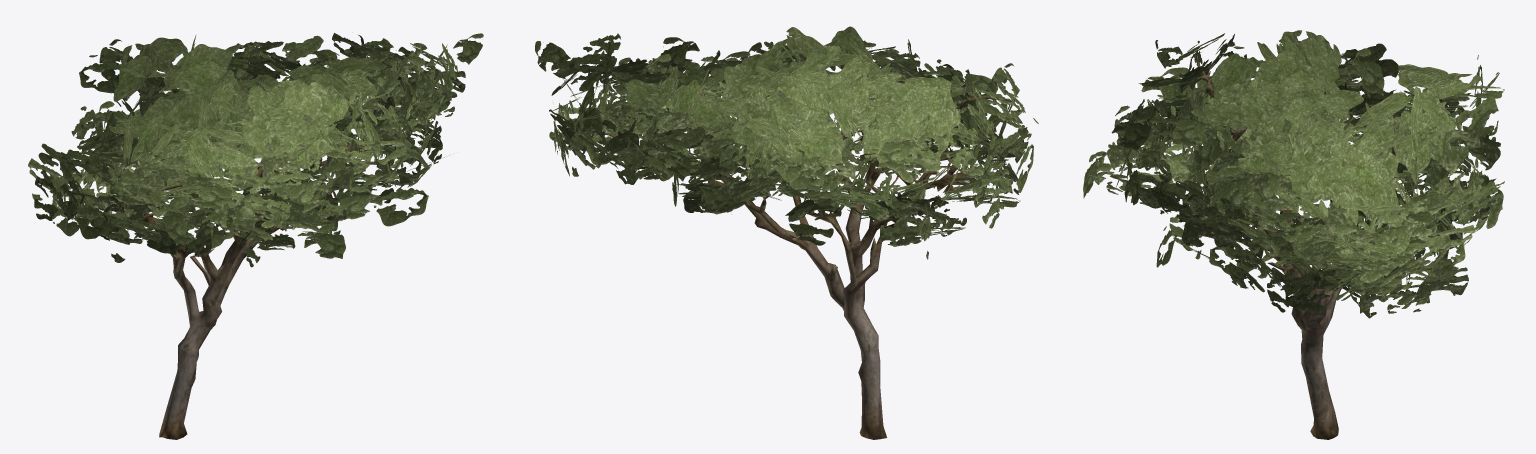
File: plant_acacia.glb
The picture shows the model from 3 angles, left to right: view 1: azimuth 30°, elevation 25°; view 2: azimuth 150°, elevation 25°; view 3: azimuth 270°, elevation 25°; orthographic projection. The views are drawn at different scales.
Parts seen in each view (by area): view 1: leaf_acacia, bark_acacia; view 2: leaf_acacia, bark_acacia; view 3: leaf_acacia, bark_acacia.
Part boxes in pixels (x1,y1,x2,y2): leaf_acacia: [28, 33, 483, 267]; bark_acacia: [99, 92, 415, 439]; leaf_acacia: [535, 26, 1038, 259]; bark_acacia: [595, 49, 1012, 439]; leaf_acacia: [1083, 30, 1504, 318]; bark_acacia: [1143, 50, 1415, 439].
Bounding box in the file's own units: 7.21 × 5.36 × 5.38.
2 materials, 2 textured.
